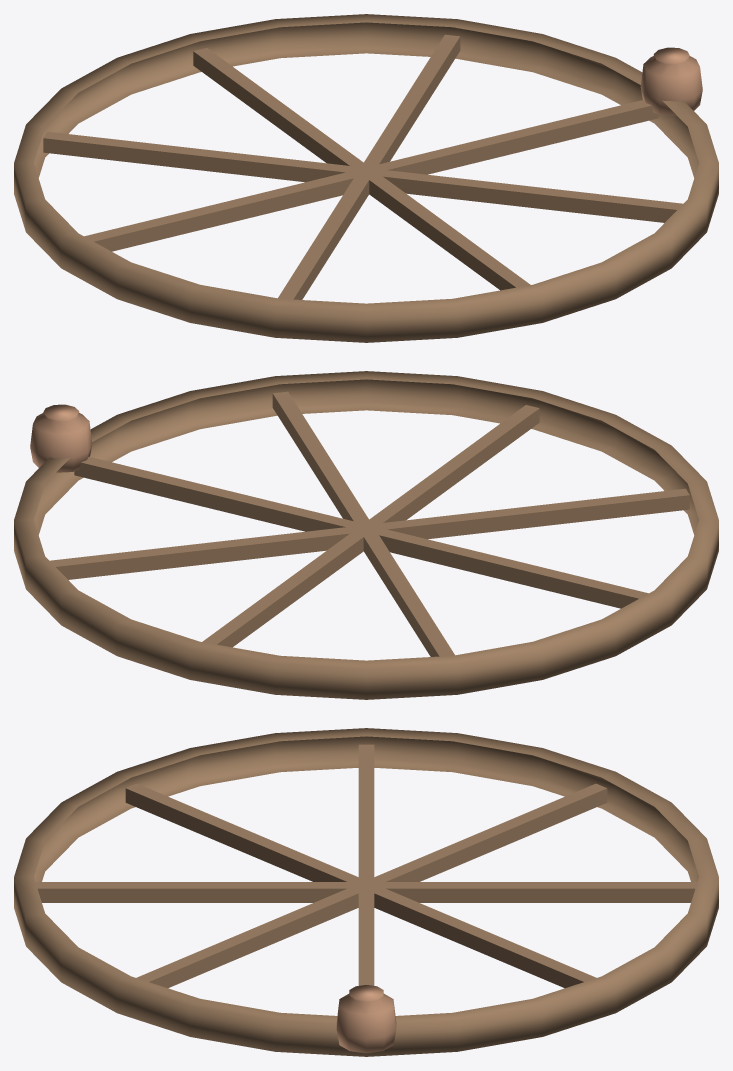
Rendered from candidai-rahat.glb.
The picture shows the model from 3 angles, top to bottom: view 1: azimuth 30°, elevation 25°; view 2: azimuth 150°, elevation 25°; view 3: azimuth 270°, elevation 25°; orthographic projection.
Parts seen in each view (by area): view 1: Wheel, Bucket; view 2: Wheel, Bucket; view 3: Wheel, Bucket.
Part boxes in pixels (box(x1,y1,x2,y2)): Wheel: box(14, 14, 718, 342); Bucket: box(640, 47, 702, 115); Wheel: box(14, 371, 718, 699); Bucket: box(30, 404, 92, 472); Wheel: box(14, 728, 718, 1056); Bucket: box(336, 985, 396, 1053).
Bounding box in the file's own units: 1.29 × 0.125 × 1.24.
